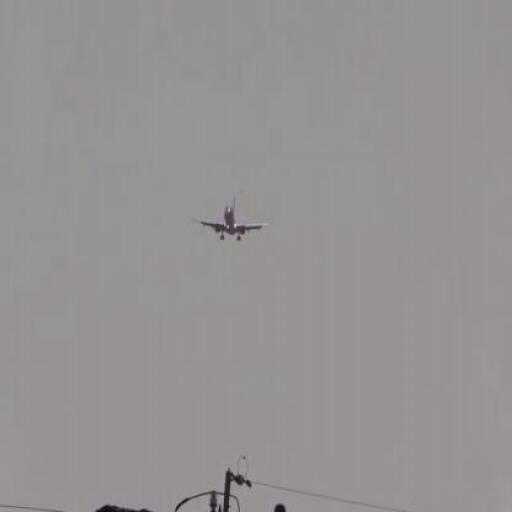aircraft: (193, 196, 272, 240)
